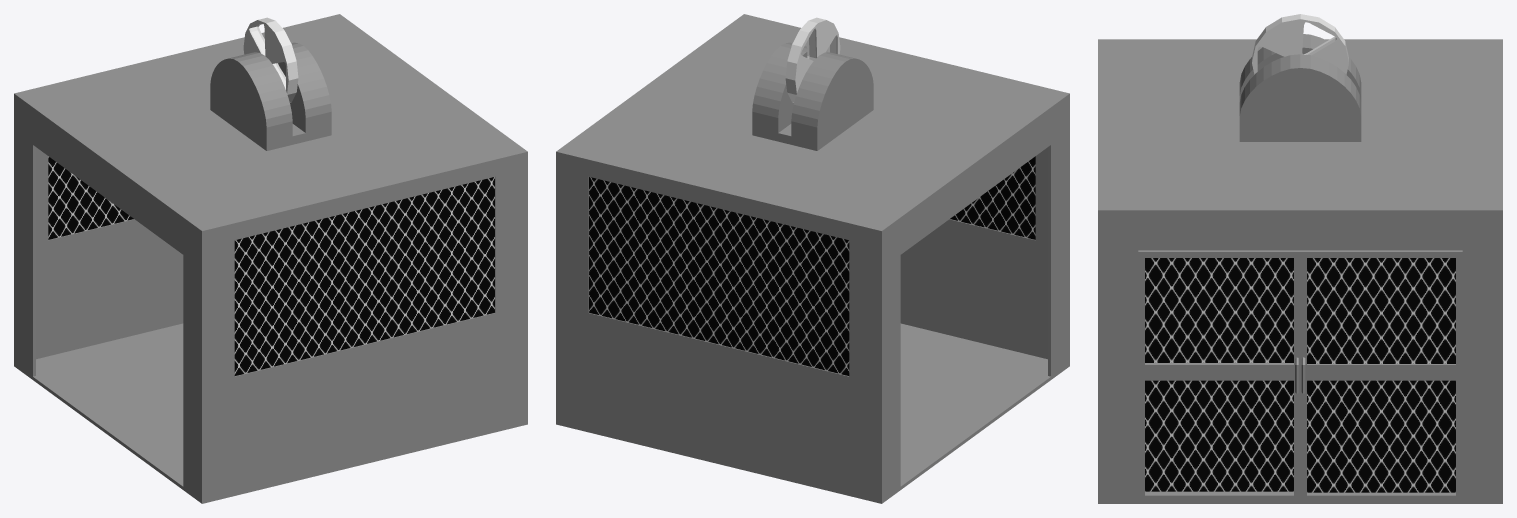
Rendered from Elevator.fbx.
3 renders of one model, left to right at view 1: azimuth 30°, elevation 25°; view 2: azimuth 150°, elevation 25°; view 3: azimuth 270°, elevation 25°, orthographic. The views are drawn at different scales.
Visible parts, largest first — view 1: Cube, Plane, Circle.001, Circle; view 2: Cube, Plane, Circle.001, Circle; view 3: Cube, Door, Door2, Circle.001, Circle.
Part boxes in pixels (bbox=[...]): Cube: bbox=[14, 14, 527, 503]; Plane: bbox=[48, 156, 494, 375]; Circle.001: bbox=[210, 42, 331, 150]; Circle: bbox=[243, 17, 298, 102]; Cube: bbox=[556, 14, 1069, 503]; Plane: bbox=[589, 156, 1035, 375]; Circle.001: bbox=[752, 42, 873, 150]; Circle: bbox=[785, 17, 840, 102]; Cube: bbox=[1098, 39, 1502, 503]; Door: bbox=[1300, 250, 1462, 501]; Door2: bbox=[1138, 250, 1300, 501]; Circle.001: bbox=[1239, 34, 1361, 141]; Circle: bbox=[1252, 14, 1348, 74].
Bounding box in the file's own units: 1034 × 1095 × 1000.
